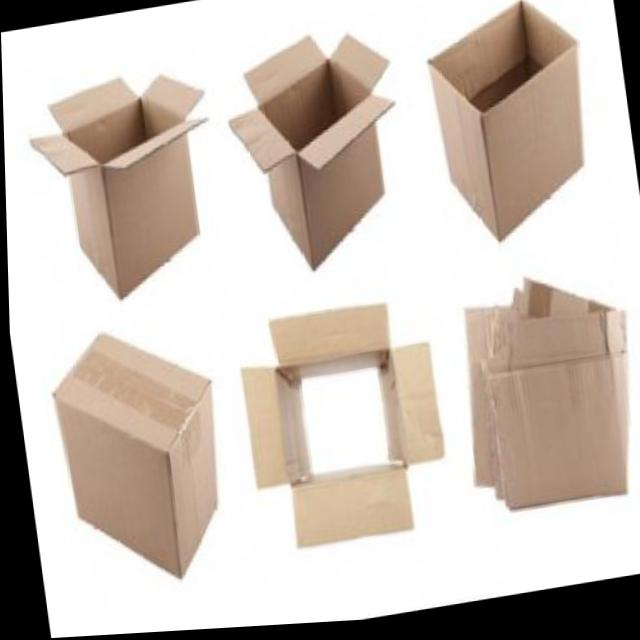box: (219, 292, 457, 571), (14, 39, 234, 325), (210, 10, 421, 292), (437, 250, 640, 541), (39, 315, 237, 609), (410, 0, 609, 263)
